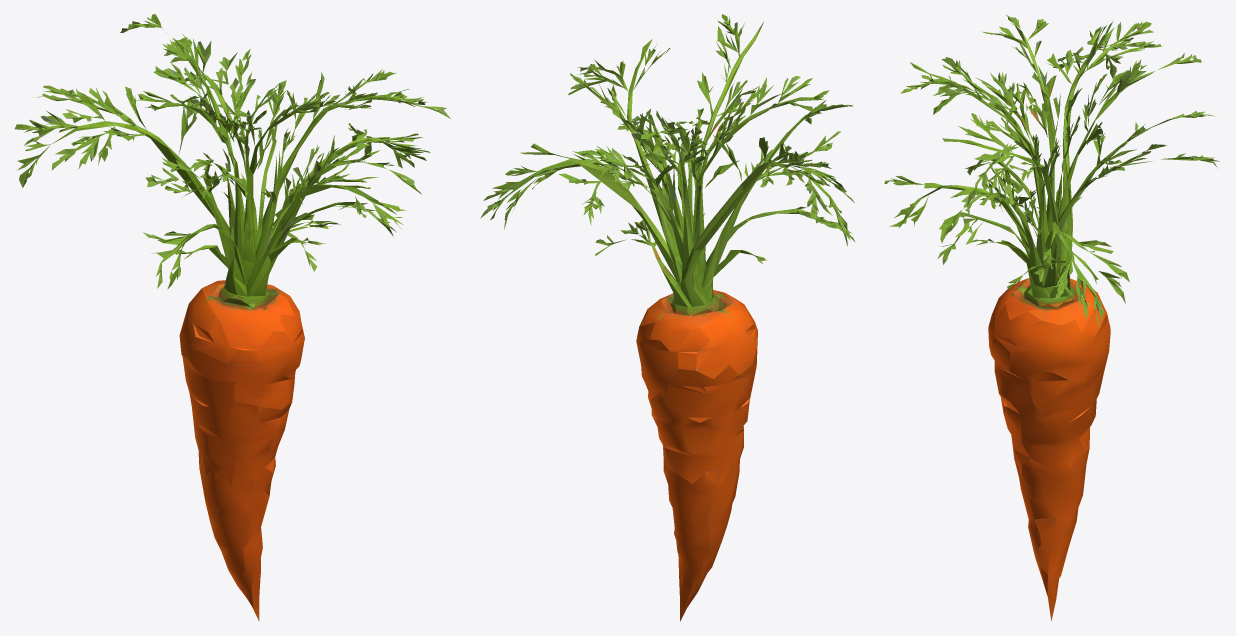
The model's file is carrot.glb.
The picture shows the model from 3 angles, left to right: view 1: azimuth 30°, elevation 25°; view 2: azimuth 150°, elevation 25°; view 3: azimuth 270°, elevation 25°; orthographic projection. The views are drawn at different scales.
Parts seen in each view (by area): view 1: Mesh_0; view 2: Mesh_0; view 3: Mesh_0.
Part boxes in pixels (x1,y1,x2,y2): Mesh_0: (14, 14, 450, 621); Mesh_0: (480, 14, 855, 621); Mesh_0: (884, 14, 1219, 620).
Size of the model in its own units: 1.34 by 1.86 by 1.03.
Materials: 1 (1 with a texture image).
